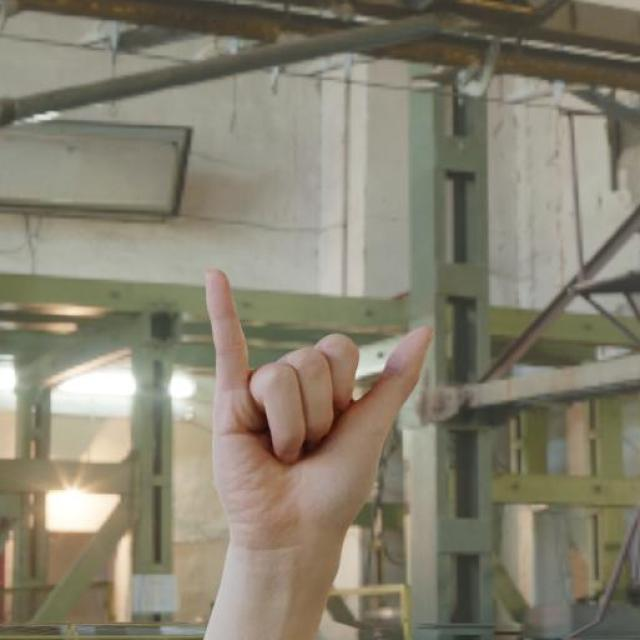Y: (199, 264, 436, 555)
